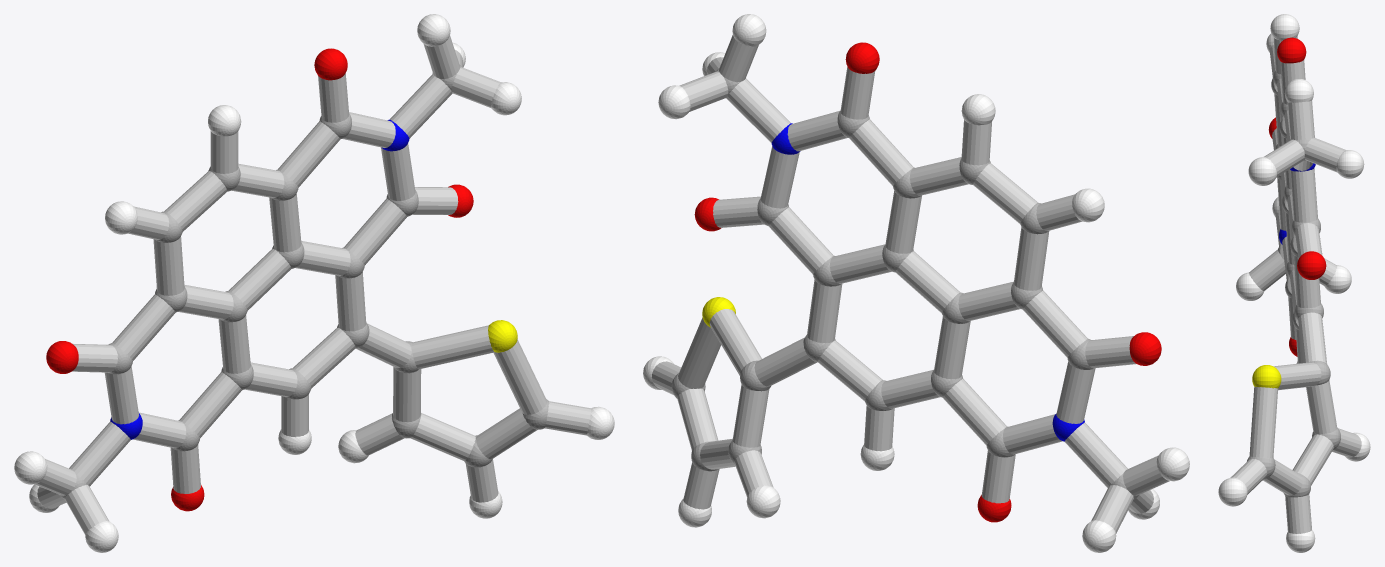
The model's file is Dimethyl_Naphthalene_Dicarboximide_Phi_25_Theta_210_Thiophene.glb.
3 views of the same model, side by side, from view 1: azimuth 30°, elevation 25°; view 2: azimuth 150°, elevation 25°; view 3: azimuth 270°, elevation 25° (orthographic). The views are drawn at different scales.
Parts seen in each view (by area): view 1: grp14119, grp7241, grp1, grp12309, grp13757, grp11585; view 2: grp14119, grp7241, grp1, grp12309, grp11585; view 3: grp14119, grp7241, grp1, grp12309, grp13757.
Part boxes in pixels (box(x1,y1,x2,y2)): grp14119: box(35, 36, 591, 534); grp7241: box(14, 14, 614, 552); grp1: box(59, 64, 549, 499); grp12309: box(46, 48, 473, 511); grp13757: box(488, 320, 517, 352); grp11585: box(110, 119, 409, 439); grp14119: box(652, 35, 1169, 533); grp7241: box(643, 14, 1189, 552); grp1: box(671, 68, 1138, 499); grp12309: box(694, 42, 1161, 522); grp11585: box(771, 123, 1084, 441); grp14119: box(1230, 36, 1361, 533); grp7241: box(1218, 14, 1370, 552); grp1: box(1247, 71, 1340, 497); grp12309: box(1268, 37, 1326, 356); grp13757: box(1252, 365, 1281, 388).
Size of the model in its own units: 11.7 by 10.19 by 3.13.
